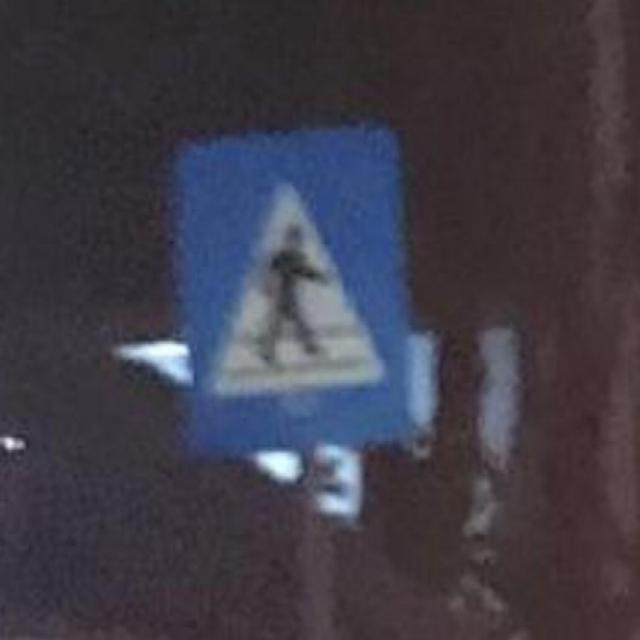traffic sign: (174, 130, 410, 450)
